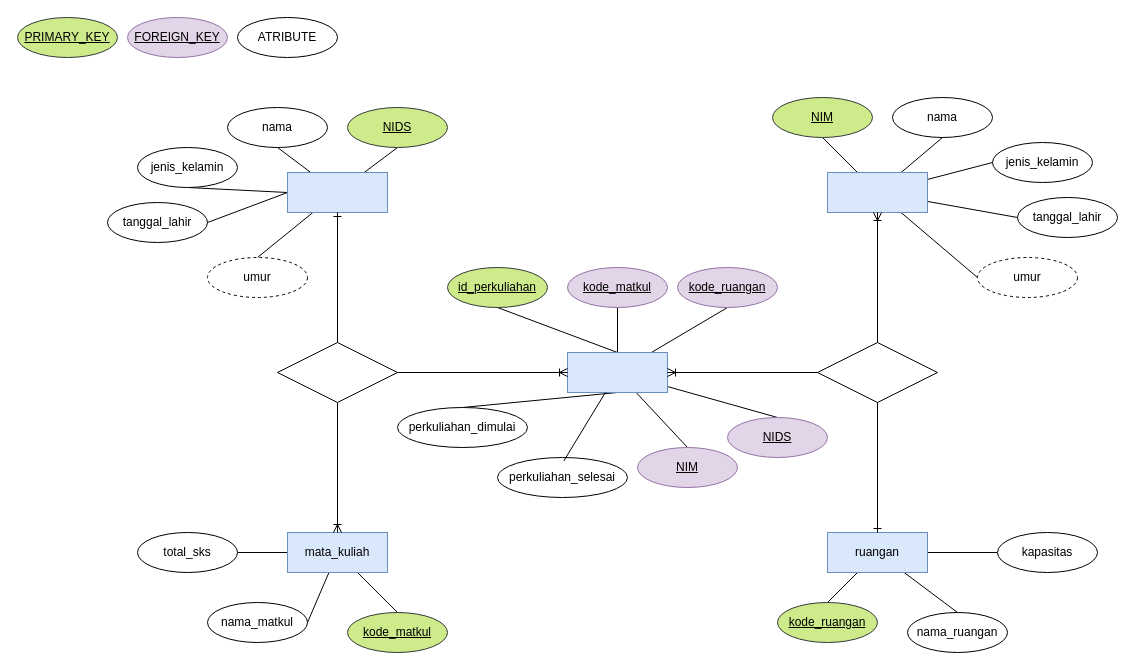
This 1135x670 diagram has some shape labels left out. Each missing label, with the centre of its shape:
"dosen" belongs at point 337,192.
"mahasiswa" belongs at point 877,192.
"memakai" belongs at point 877,372.
"mengampu" belongs at point 337,372.
"perkuliahan" belongs at point 617,372.
